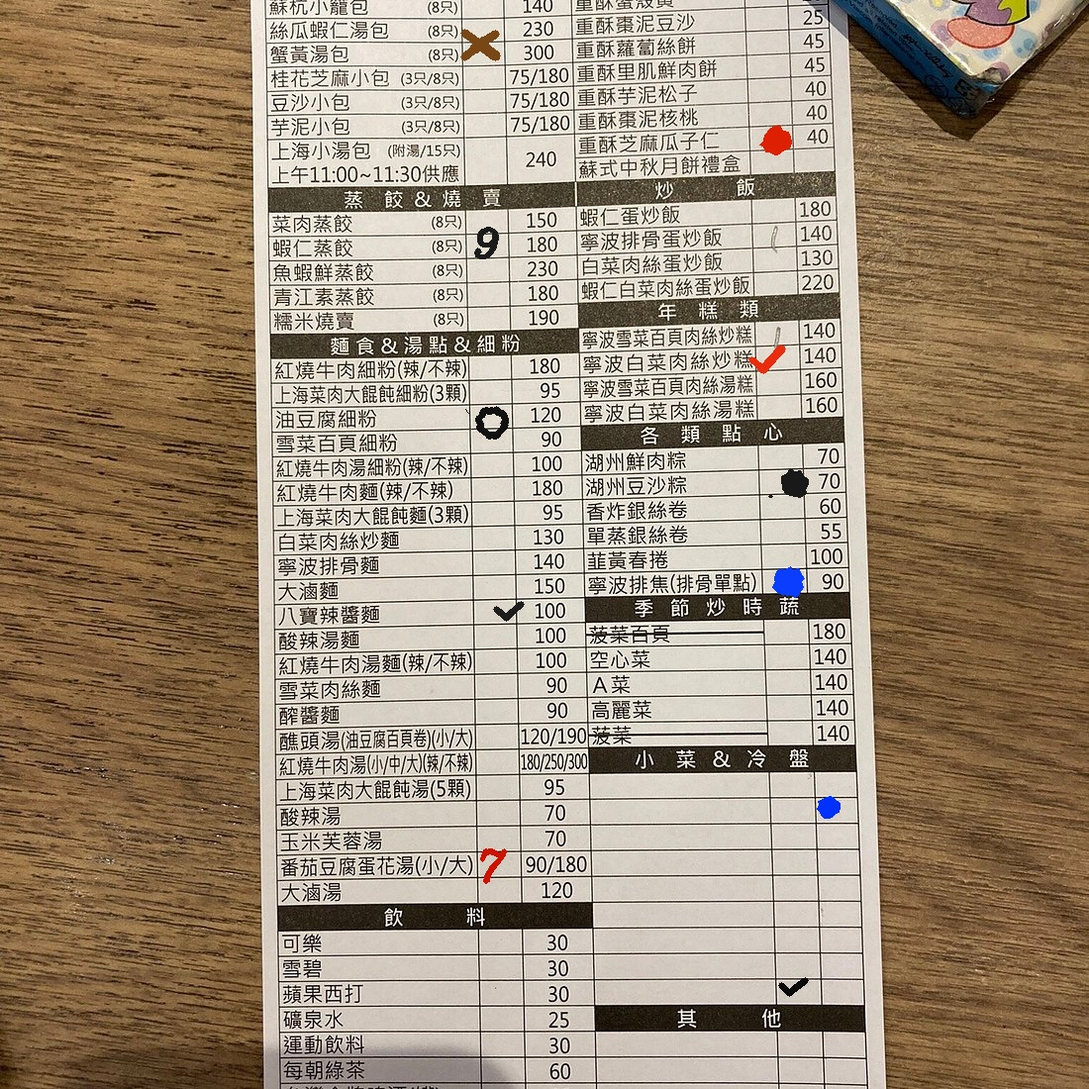marked_circle: (764, 567, 808, 595), (760, 468, 804, 496), (816, 794, 859, 822), (749, 123, 793, 150)
marked_hollow: (468, 402, 512, 430)
marked_number_7: (478, 850, 522, 878)
marked_number_9: (467, 232, 511, 259)
marked_tick: (776, 977, 820, 1005), (474, 599, 518, 627), (755, 346, 799, 373)
marked_x: (461, 39, 505, 66)
